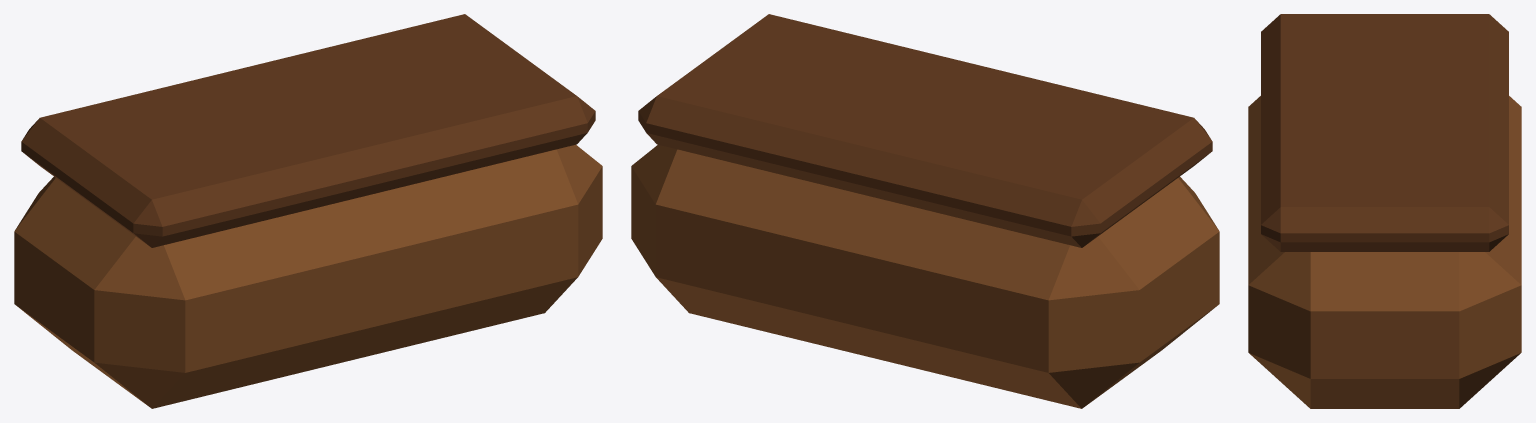
Rendered from bread.glb.
3 views of the same model, side by side, from view 1: azimuth 30°, elevation 25°; view 2: azimuth 150°, elevation 25°; view 3: azimuth 270°, elevation 25° (orthographic). The views are drawn at different scales.
Visible parts, largest first — view 1: Item; view 2: Item; view 3: Item.
Boxes of the visible parts, left/top/right/bottom form: Item: left=14, top=14, right=602, bottom=408; Item: left=631, top=14, right=1219, bottom=408; Item: left=1248, top=14, right=1521, bottom=408.
Bounding box in the file's own units: 0.22 × 0.093 × 0.11.
